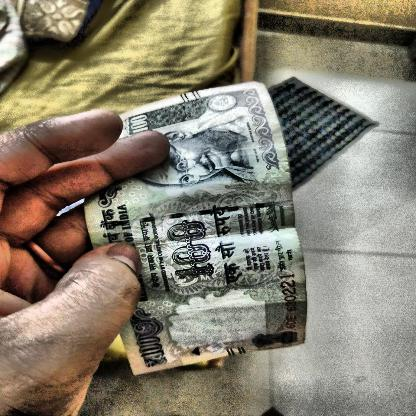Rs100: (165, 219, 215, 283), (132, 331, 172, 367)
